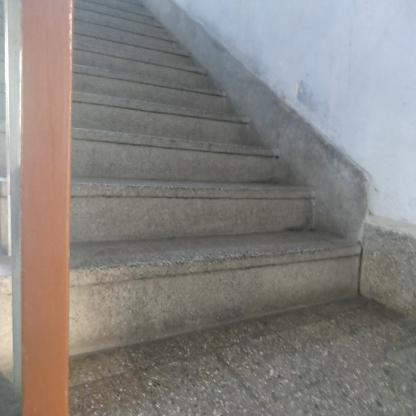stairs: (81, 109, 294, 379)
